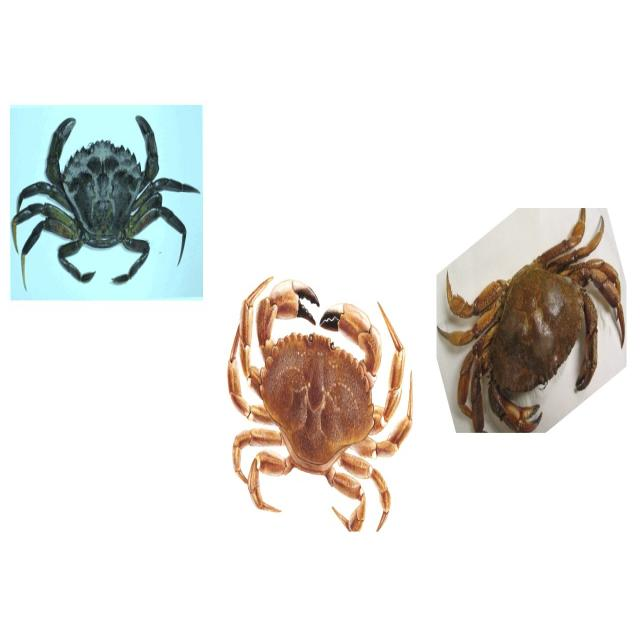egc: (9, 107, 202, 300)
jonah_crab: (226, 268, 417, 531)
rock_crab: (430, 209, 629, 422)
